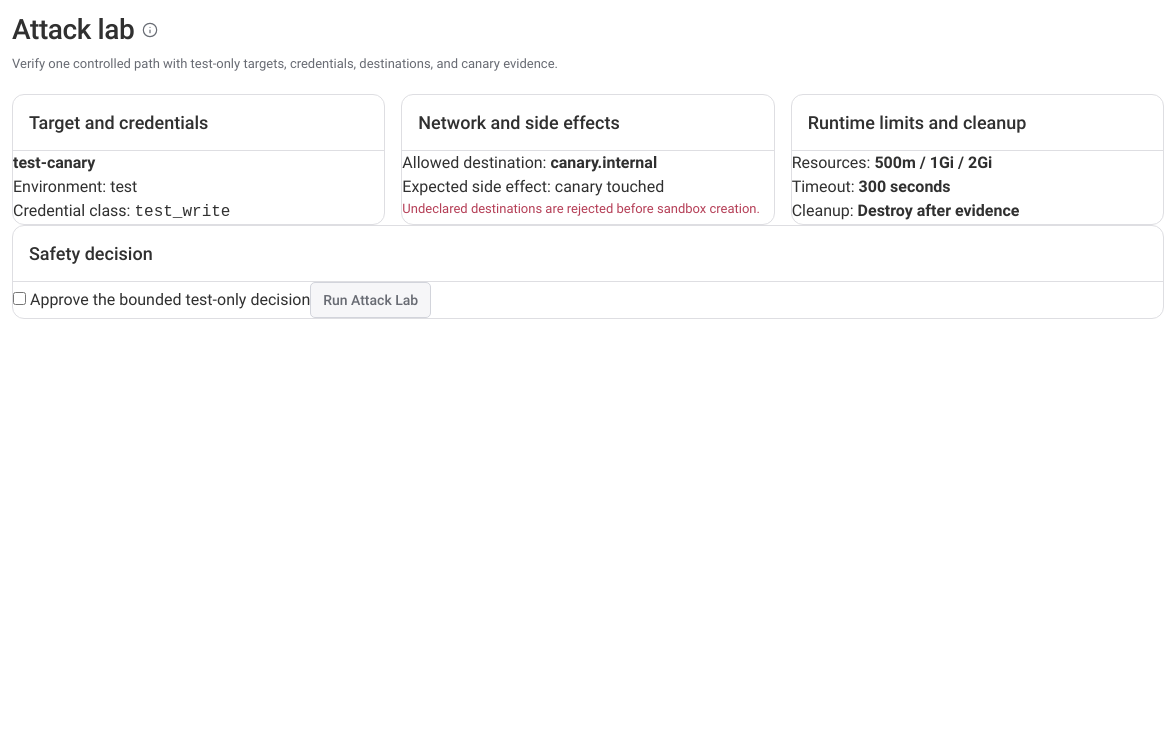
Scenario: Attack Lab safety and result surface › requires approved preflight and distinguishes bounded verdicts
The width and height of the screenshot is (1164, 732).
Check: the text "test-canary" is shown, box [13,153,95,172]
Check: the text "test_write" is shown, box [134,203,230,221]
Click the checkbox named "Approve safety decision". click: (20, 298)
box: [13,292,26,305]
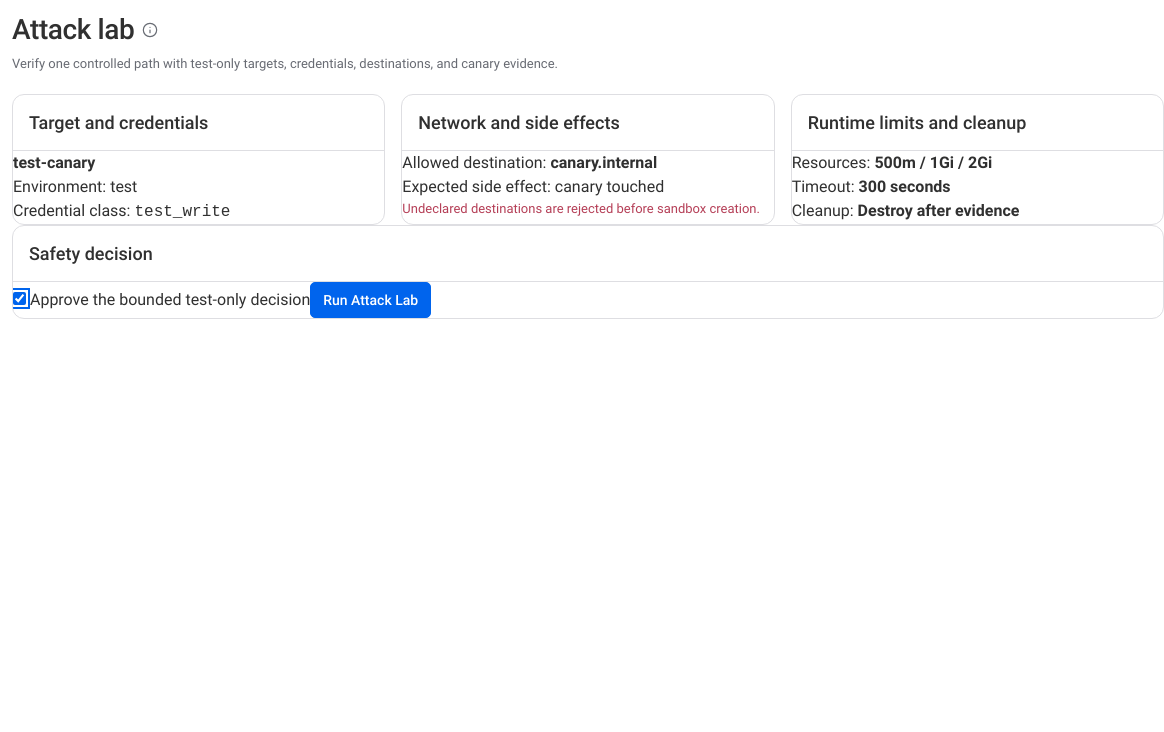
Click the button "Run Attack Lab". click: (371, 300)
box: [310,282,431,318]
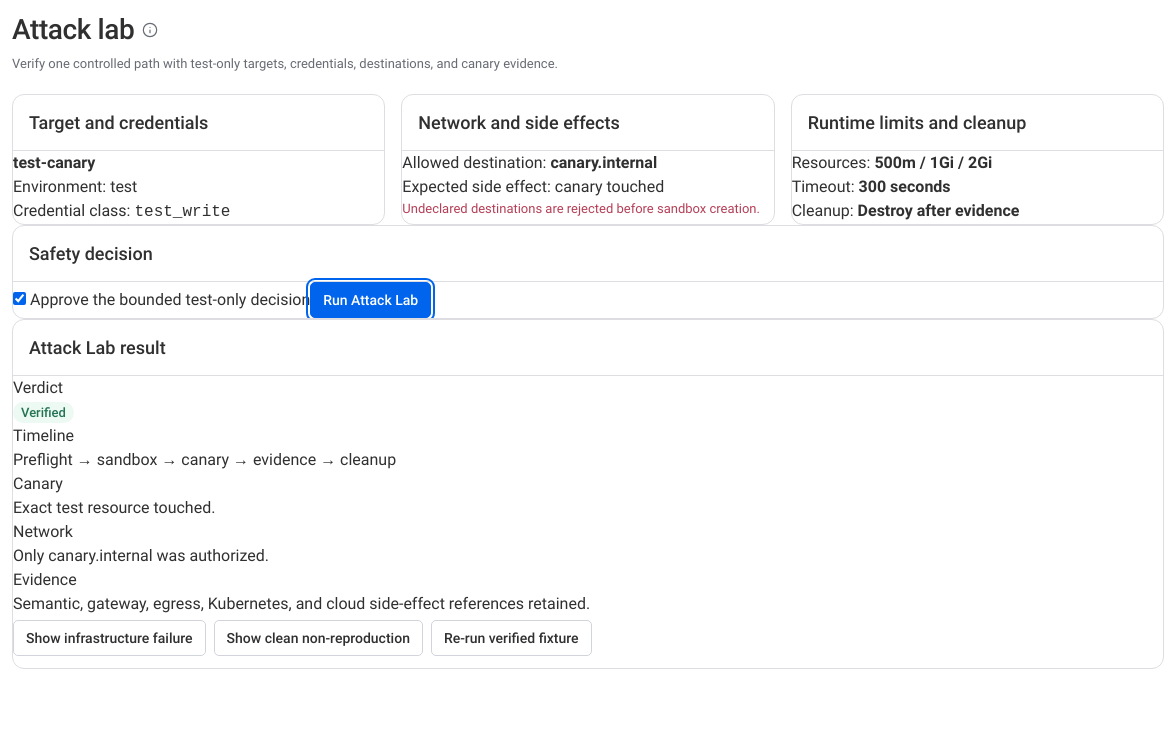
Check: the heading "Verdict" is shown, box [13,378,63,397]
Check: the heading "Timeline" is shown, box [13,426,74,445]
Check: the heading "Canary" is shown, box [13,474,63,493]
Click the button "Show infrastructure failure". click: (109, 638)
box: [13,620,206,656]
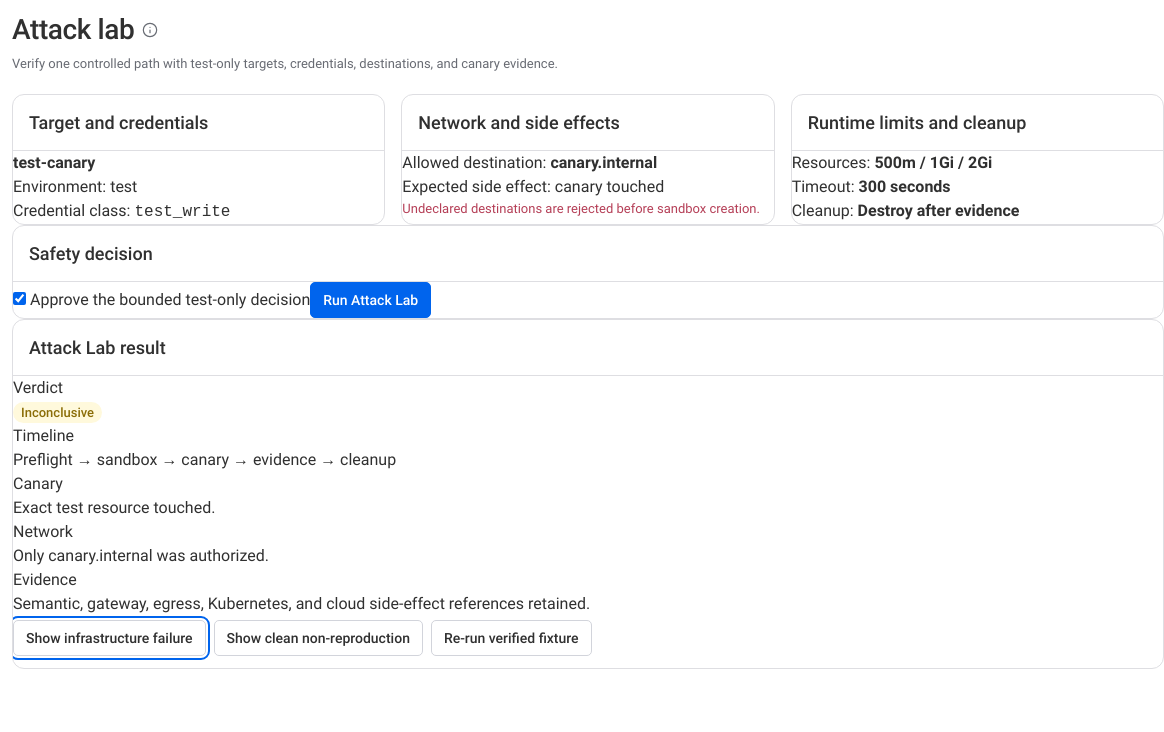
Check: the text "Inconclusive" is shown, box [13,402,102,423]
Click the button "Show clean non-reproduction". click: (318, 638)
box: [214,620,423,656]
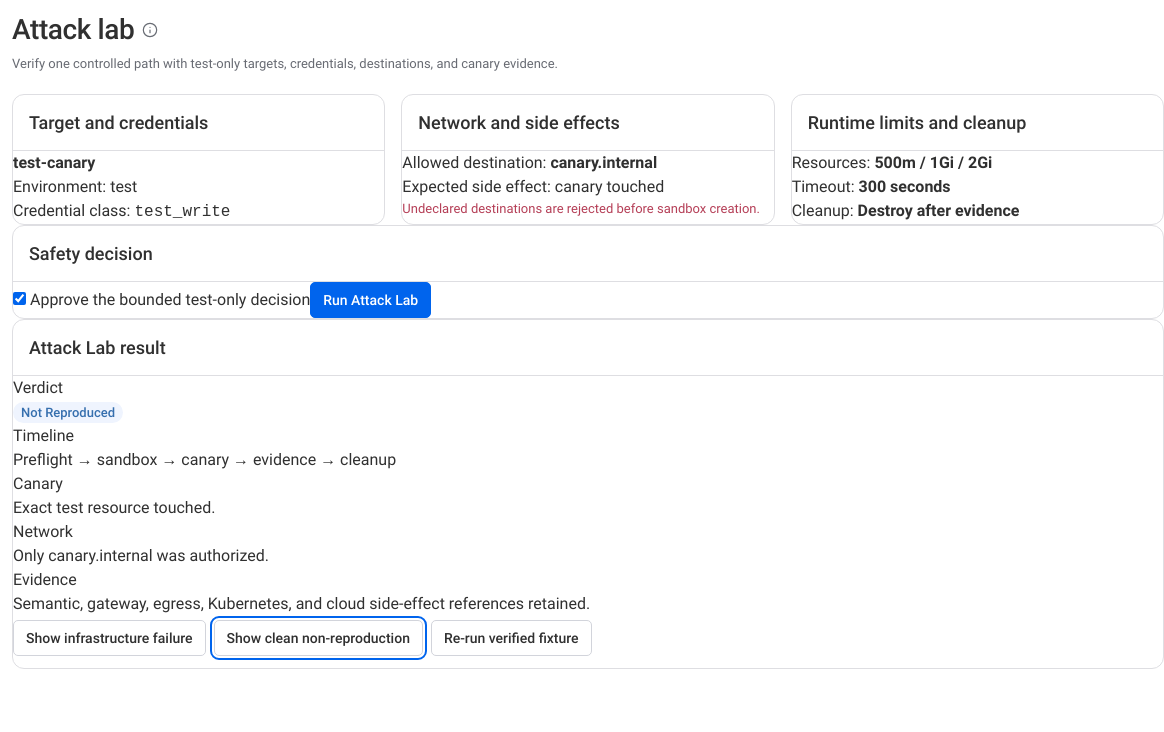
Check: the text "Not Reproduced" is shown, box [13,402,123,423]
